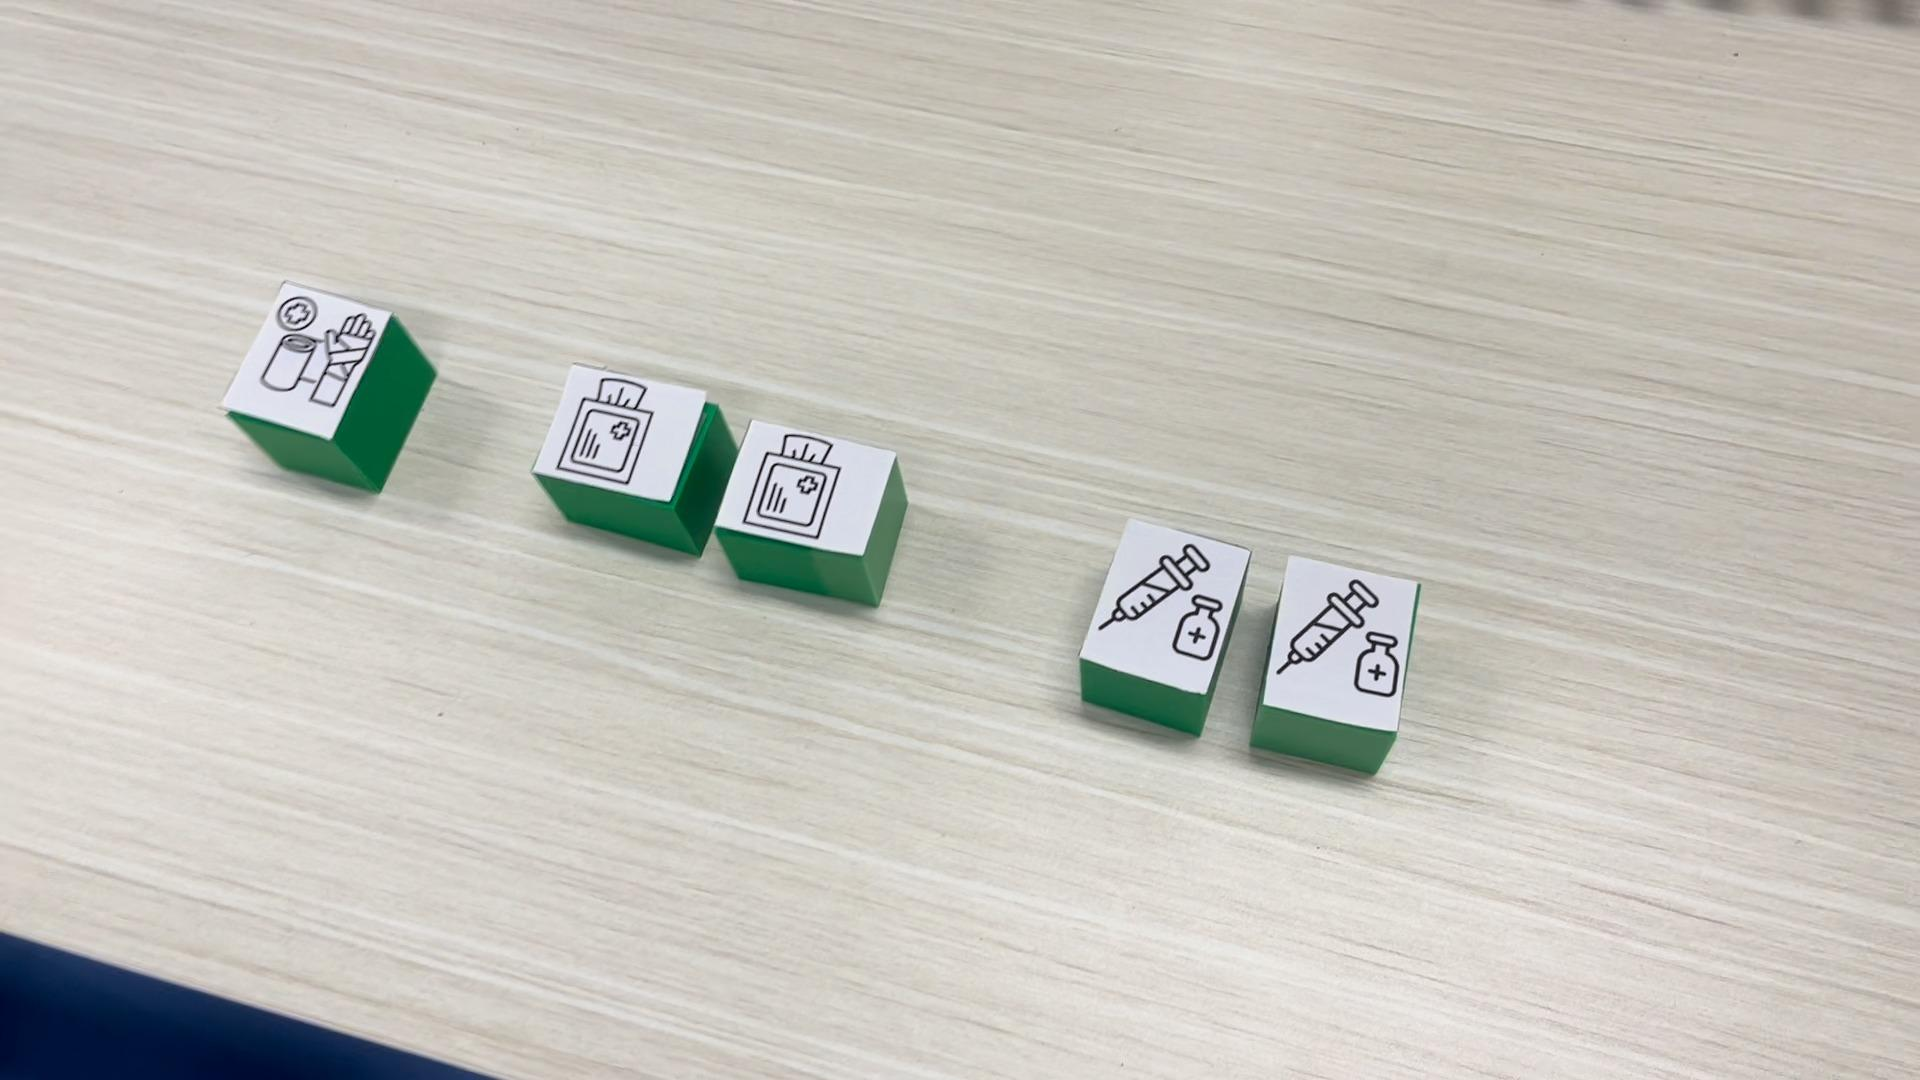Bandages: (222, 280, 438, 493)
Gauze: (535, 361, 738, 563), (715, 415, 910, 611)
antiseptic cream: (1247, 550, 1422, 775), (1075, 516, 1251, 736)
